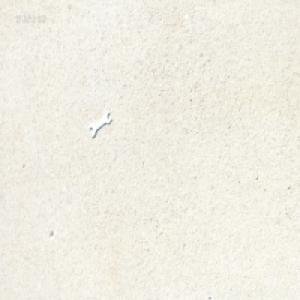Wrench: (88, 110, 111, 138)
